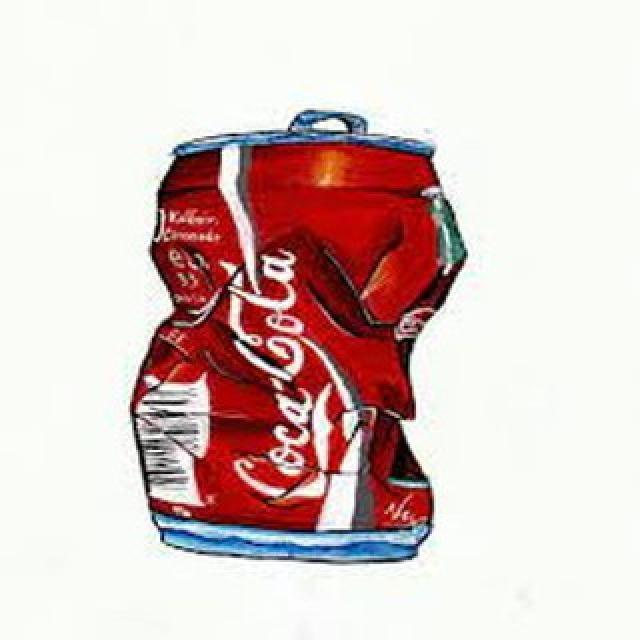metal-can: (122, 105, 468, 564)
